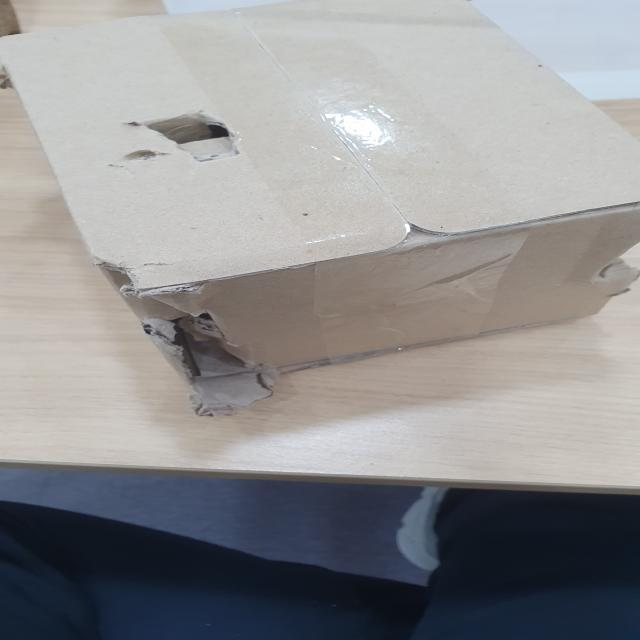hole: (141, 296, 268, 400), (131, 107, 252, 157)
